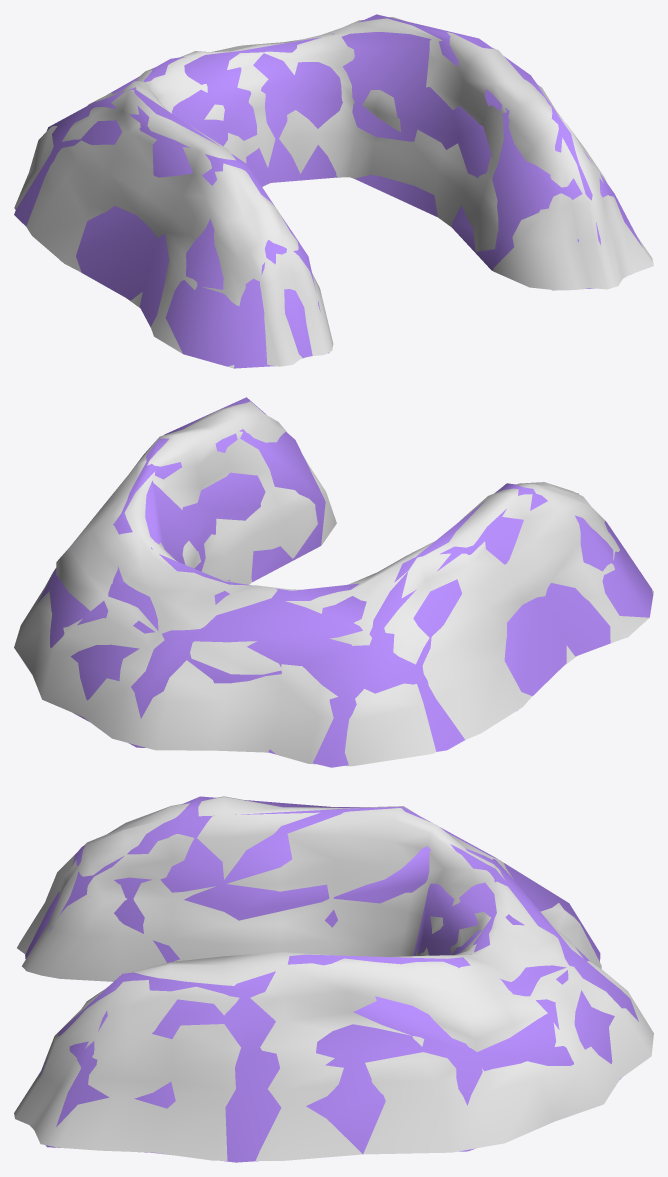
File: ACE_VehicleTrench_01.fbx
3 renders of one model, top to bottom at view 1: azimuth 30°, elevation 25°; view 2: azimuth 150°, elevation 25°; view 3: azimuth 270°, elevation 25°, orthographic. The views are drawn at different scales.
Parts seen in each view (by area): view 1: Object_LOD0, UTM_BuildingFireView; view 2: Object_LOD0, UTM_BuildingFireView; view 3: Object_LOD0, UTM_BuildingFireView.
Boxes of the visible parts, box(x1,y1,x2,y2) form: Object_LOD0: box(14, 17, 653, 368); UTM_BuildingFireView: box(14, 14, 642, 368); Object_LOD0: box(14, 401, 653, 766); UTM_BuildingFireView: box(37, 397, 653, 767); Object_LOD0: box(14, 796, 653, 1160); UTM_BuildingFireView: box(25, 796, 638, 1162).
Size of what is drawn, in the model's own units: 1187 by 364 by 1266.
